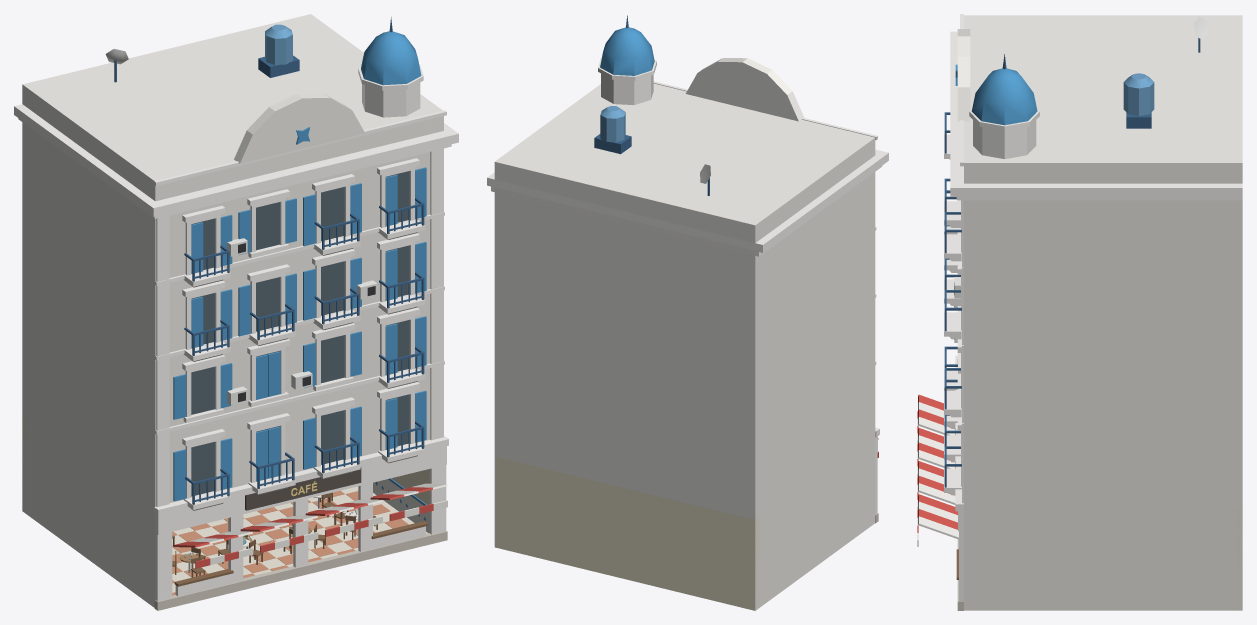
File: shop_cafe.fbx
3 views of the same model, side by side, from view 1: azimuth 30°, elevation 25°; view 2: azimuth 150°, elevation 25°; view 3: azimuth 270°, elevation 25° (orthographic). The views are drawn at different scales.
Visible parts, largest first — view 1: shop_cafe; view 2: shop_cafe; view 3: shop_cafe.
Part boxes in pixels (<box>): shop_cafe: <box>14,14,458,610</box>; shop_cafe: <box>487,15,888,610</box>; shop_cafe: <box>917,14,1242,610</box>.
Size of the model in its own units: 14.6 by 23.55 by 12.85.
